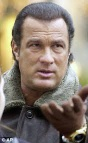male: (9, 4, 74, 93)
